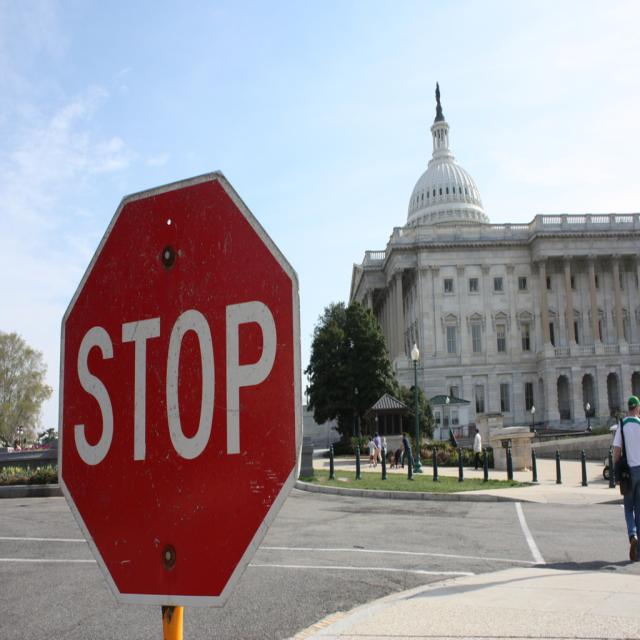Stop-sign: (56, 168, 305, 609)
